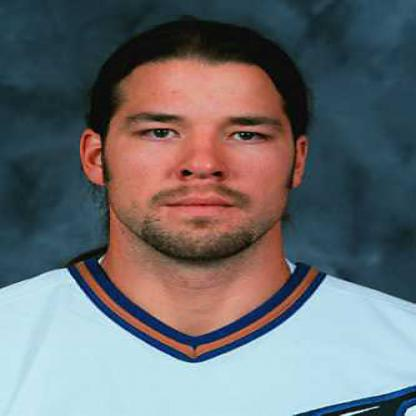face: (101, 19, 300, 264)
